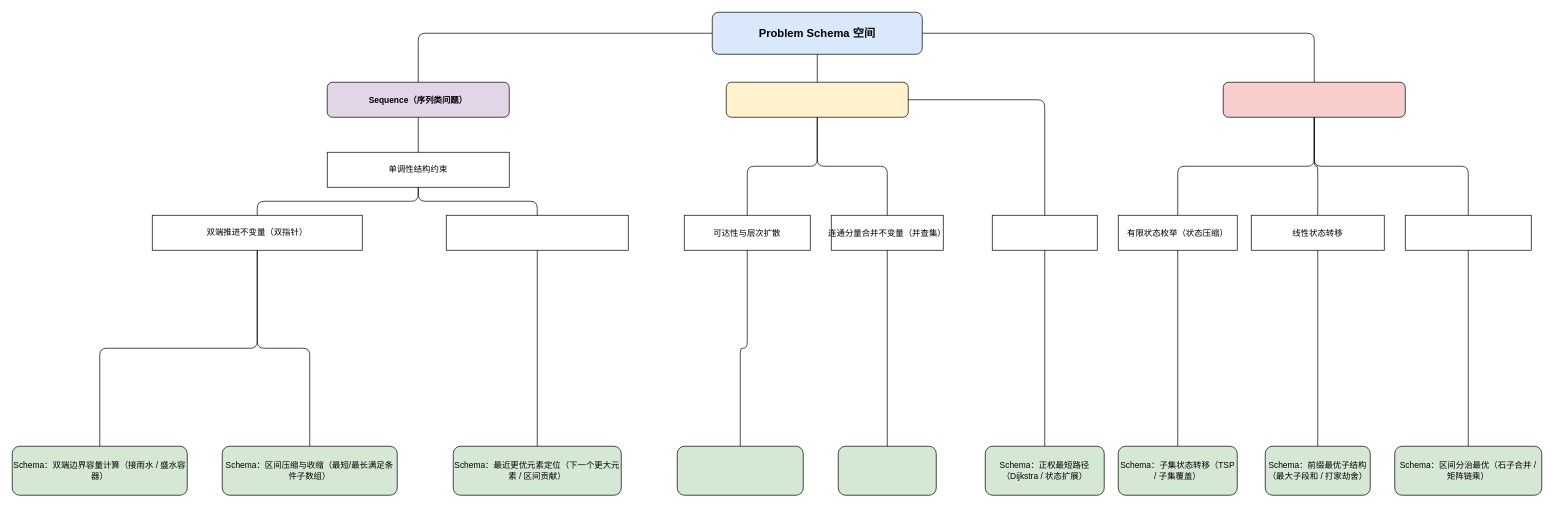
The diagram is 1554 pixels wide and 508 high, and some of its shapes have lost their labels. The shapes that lost their labels are listed below. From the top down, each one's box as (x1, y1, x2, y2) in pixels, then its label:
(726, 82, 908, 117): Graph（图论问题）
(1223, 82, 1405, 117): DP（动态规划）
(446, 215, 628, 250): 单调栈不变量
(992, 215, 1097, 250): 路径最优性不变量
(1405, 215, 1531, 250): 区间合并不变量
(677, 446, 803, 495): Schema：分层最短路扩散（BFS / 多源 BFS）
(838, 446, 936, 495): Schema：动态连通性维护（岛屿数量 / 合并查询）
